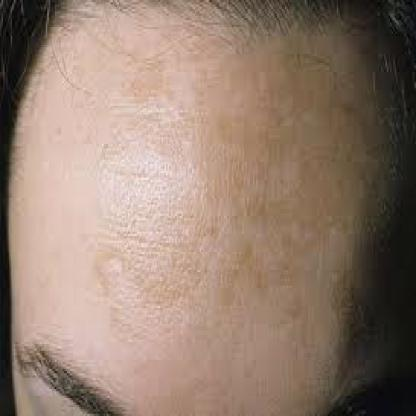darkspot: (100, 61, 226, 310), (238, 50, 361, 281)
